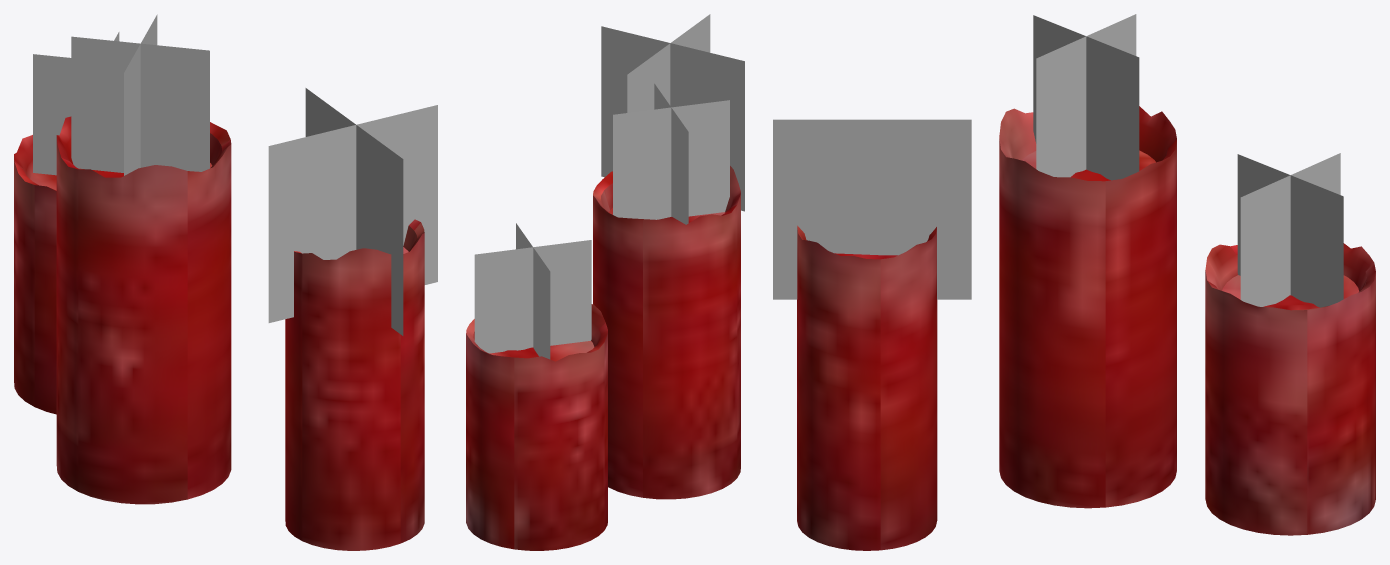
File: candle.fbx
The picture shows the model from 3 angles, left to right: view 1: azimuth 30°, elevation 25°; view 2: azimuth 150°, elevation 25°; view 3: azimuth 270°, elevation 25°; orthographic projection. The views are drawn at different scales.
Parts seen in each view (by area): view 1: Lilin.004, Lilin.001; view 2: Lilin.004, Lilin.001; view 3: Lilin.004, Lilin.001.
Boxes of the visible parts, left/top/right/bottom form: Lilin.004: left=14, top=116, right=424, bottom=550; Lilin.001: left=33, top=14, right=437, bottom=335; Lilin.004: left=466, top=166, right=740, bottom=550; Lilin.001: left=474, top=14, right=744, bottom=359; Lilin.004: left=797, top=106, right=1375, bottom=550; Lilin.001: left=773, top=14, right=1343, bottom=307.
Bounding box in the file's own units: 84.95 × 133 × 167.
